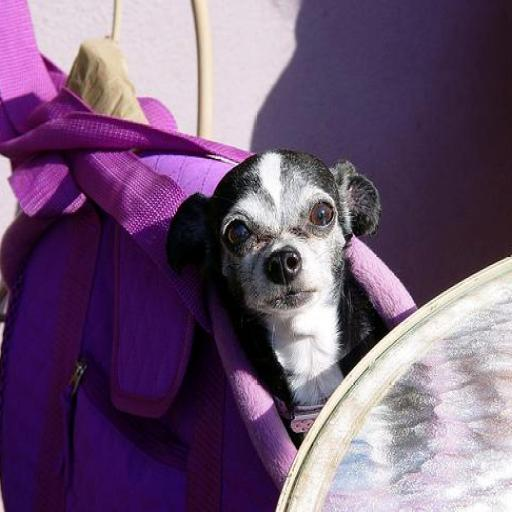dog_face: (164, 137, 381, 316)
